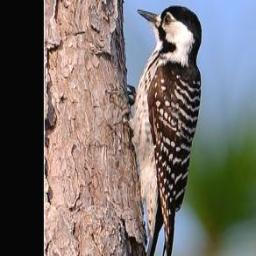Woodpecker: (121, 0, 206, 256)
